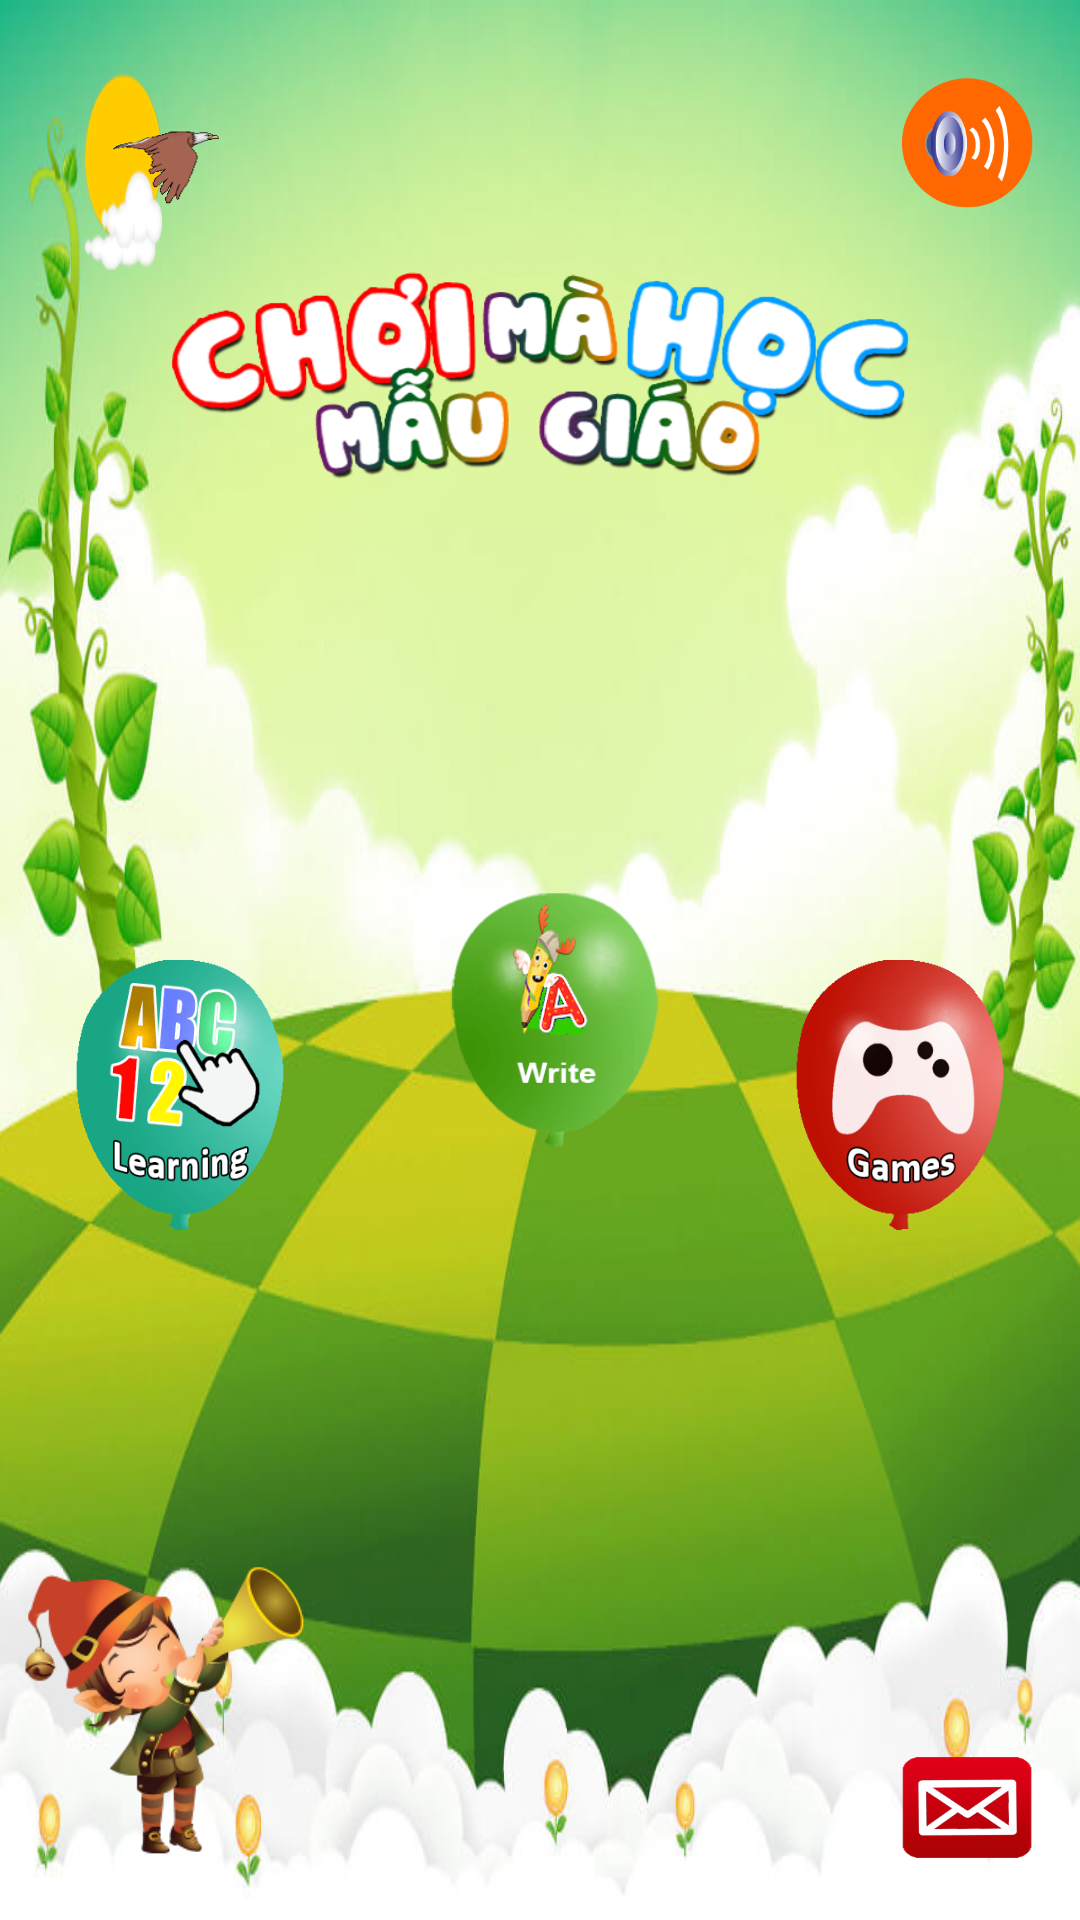

Screen size 1080×1920. Icon name, then its center in pixels as (x,y):
anim: (165,142)
ballon: (555,1020)
mail: (967,1806)
speakeron: (967,142)
